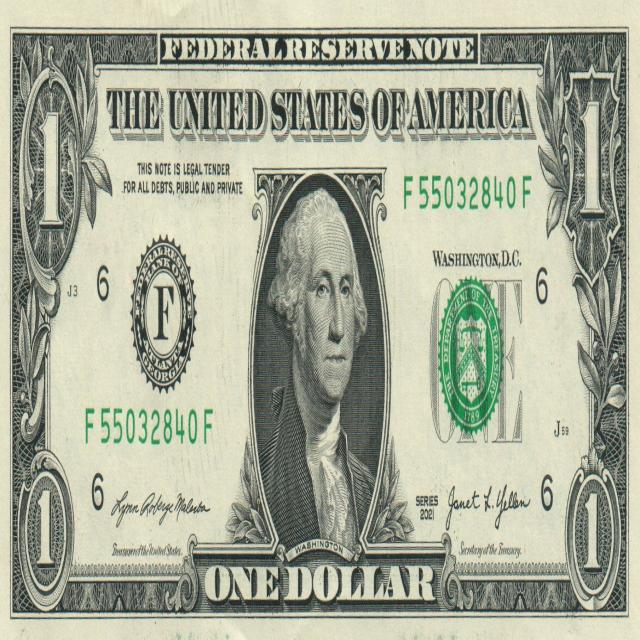SerialNumber: (404, 175, 531, 211), (86, 408, 212, 444)
